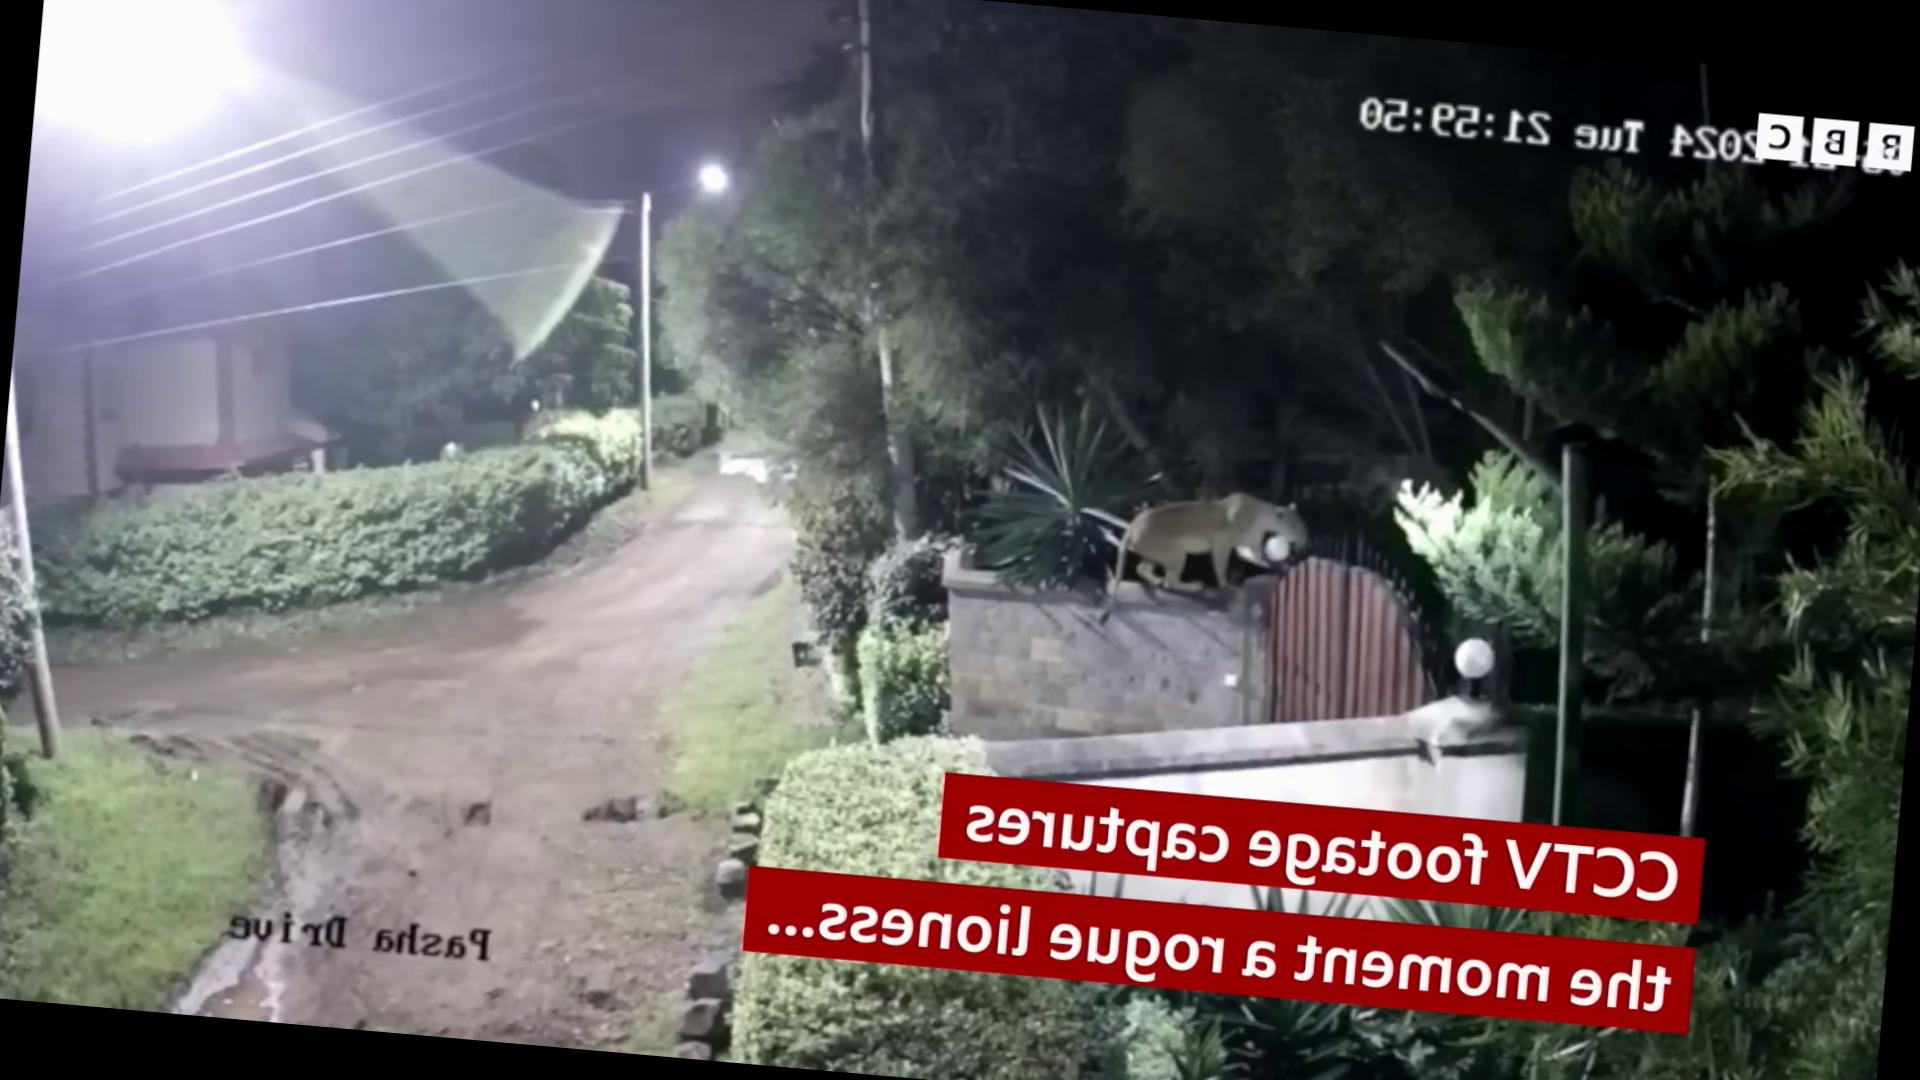lions: (996, 451, 1363, 684)
